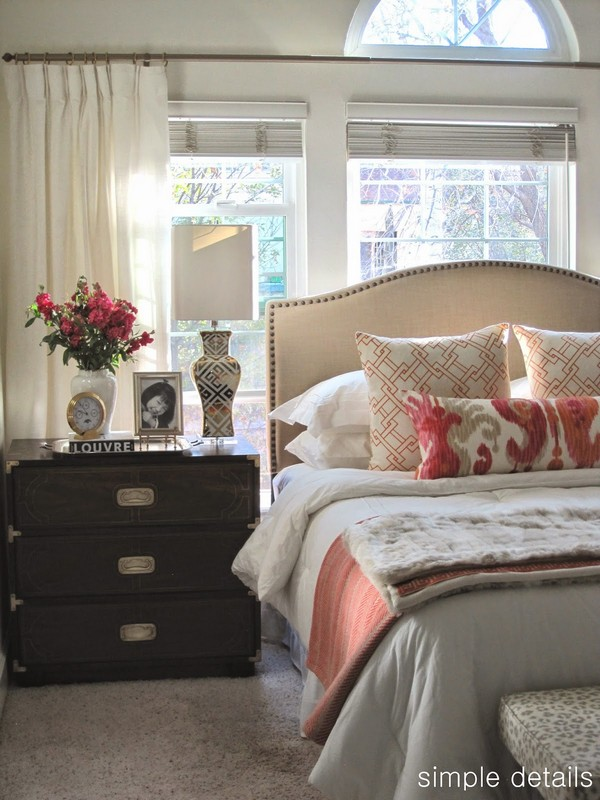bed: (265, 260, 599, 794)
lamp: (171, 222, 259, 446)
